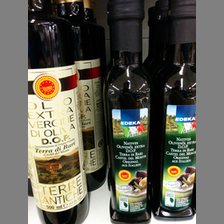oil: (28, 1, 91, 223), (104, 1, 155, 223), (155, 1, 195, 220)
